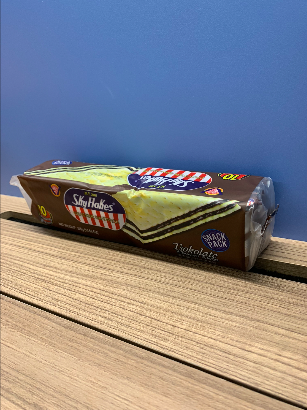Crackers_300-399g: (37, 167, 232, 254)
